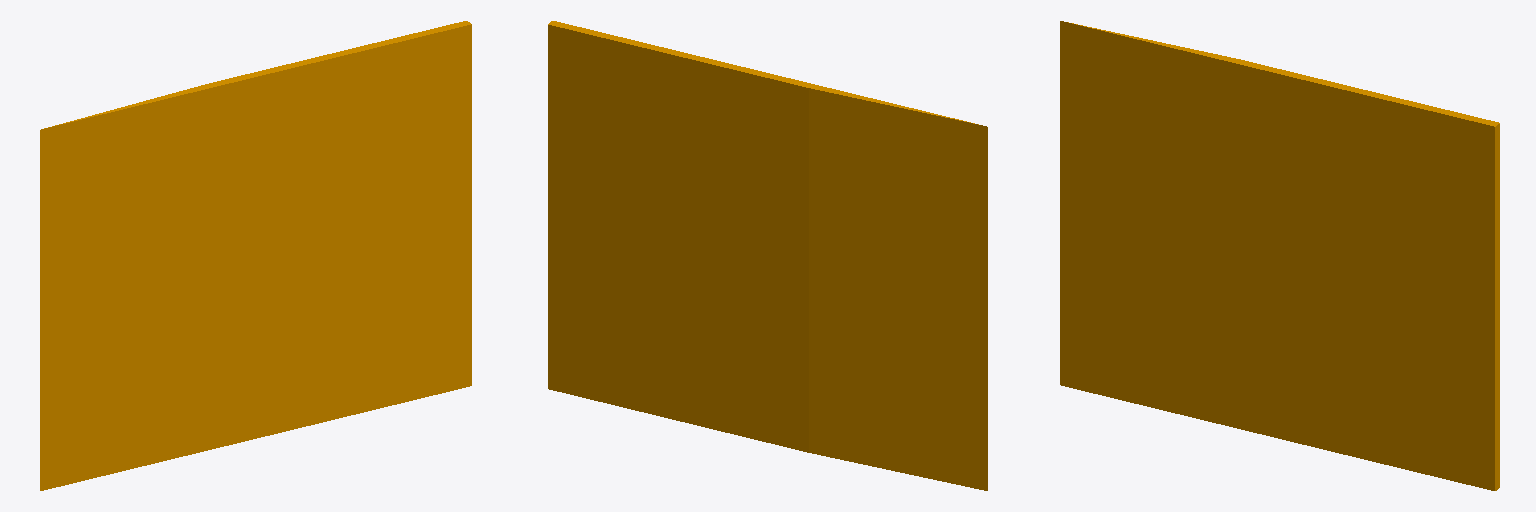
robot.urdf — slope:
<?xml version="1.0" ?>
<robot name="slope">

<material name="silver">
  <color rgba="0.700 0.700 0.700 1.000"/>
</material>

<link name="base_link">
  <inertial>
    <origin xyz="1.4791666666666656 0.024020232171393235 0.9999999999999997" rpy="0 0 0"/>
    <mass value="1645.6042694874993"/>
    <inertia ixx="548.9035576697217" iyy="1164.9221195894606" izz="616.7561642675146" ixy="-3.5185728047729583" iyz="-7.105427357601002e-15" ixz="-4.547473508864641e-13"/>
  </inertial>
  <visual>
    <origin xyz="0 0 0" rpy="0 0 0"/>
    <geometry>
      <mesh filename="base_link.stl" scale="0.001 0.001 0.001"/>
    </geometry>
    <material name="silver"/>
    <material/>
  </visual>
  <collision>
    <origin xyz="0 0 0" rpy="0 0 0"/>
    <geometry>
      <mesh filename="base_link.stl" scale="0.001 0.001 0.001"/>
    </geometry>
  </collision>
</link>

</robot>

--- Render facts (derived) ---
The picture shows the robot from 3 angles, left to right: view 1: azimuth 30°, elevation 25°; view 2: azimuth 150°, elevation 25°; view 3: azimuth 330°, elevation 25°; orthographic projection.
Robot: slope — 1 links, 0 joints (none); root link base_link; default pose: every joint at zero.
Links seen in each view (by area): view 1: base_link; view 2: base_link; view 3: base_link.
Boxes of the visible links, x1=… form: base_link: x1=40, y1=21, x2=471, y2=490; base_link: x1=548, y1=21, x2=987, y2=490; base_link: x1=1060, y1=21, x2=1499, y2=490.
Size in the robot's own frame: 2.5 by 0.0524 by 2 metres.
1 mesh visuals loaded from 1 distinct referenced files (1 binary STL).